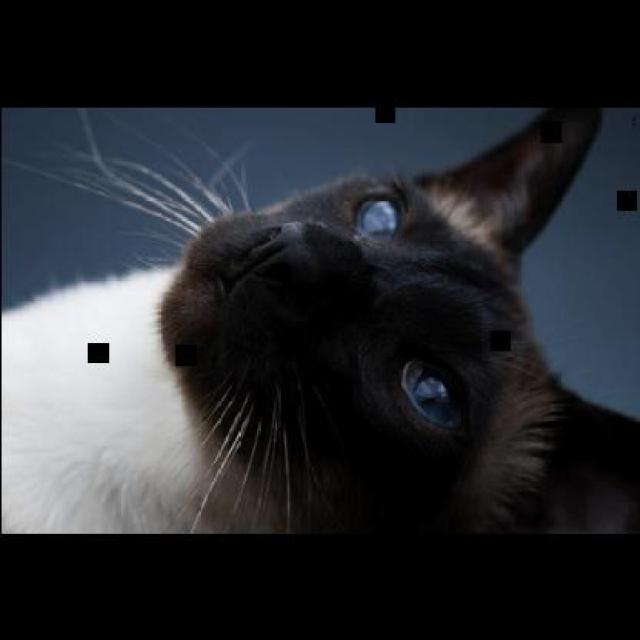unauthorized: (0, 104, 638, 535)
